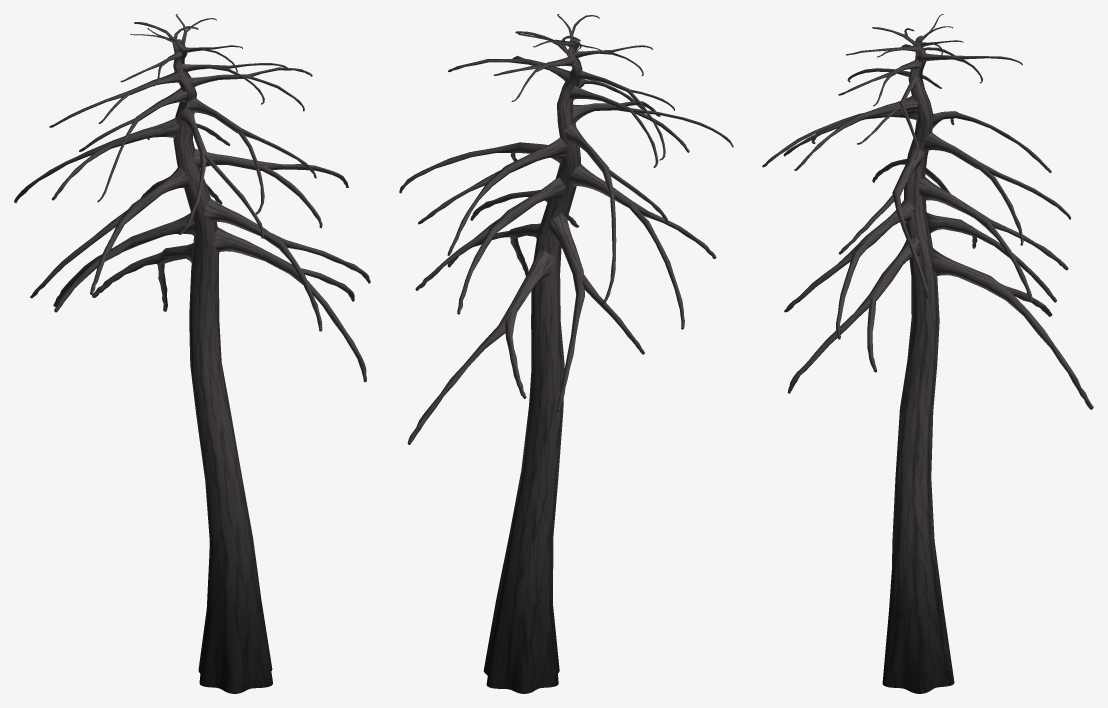
The model's file is DeadTree_3.gltf.
3 renders of one model, left to right at view 1: azimuth 30°, elevation 25°; view 2: azimuth 150°, elevation 25°; view 3: azimuth 270°, elevation 25°, orthographic. The views are drawn at different scales.
Parts seen in each view (by area): view 1: DeadTree_3; view 2: DeadTree_3; view 3: DeadTree_3.
Boxes of the visible parts, x1,y1,x2,y2 form: DeadTree_3: (14,14,370,693); DeadTree_3: (399,14,733,693); DeadTree_3: (762,14,1093,693).
Size of the model in its own units: 6.39 by 13.28 by 6.43.
1 material, 1 textured.
